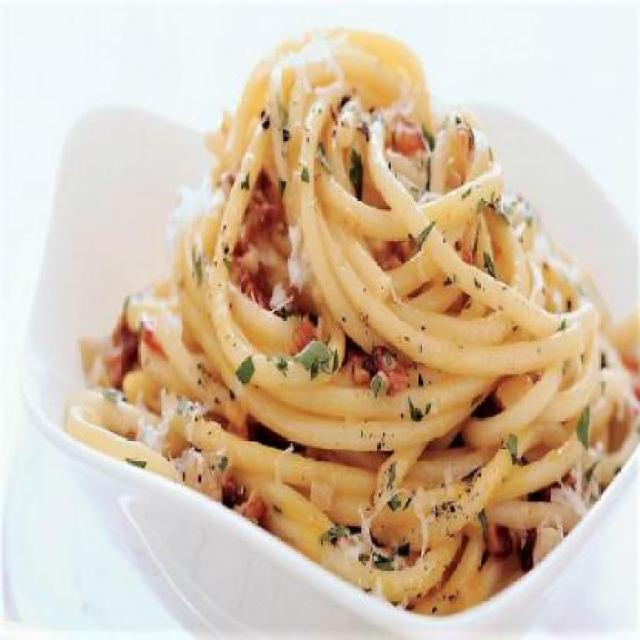Pasta with carbonara sauce: (137, 16, 614, 609)
